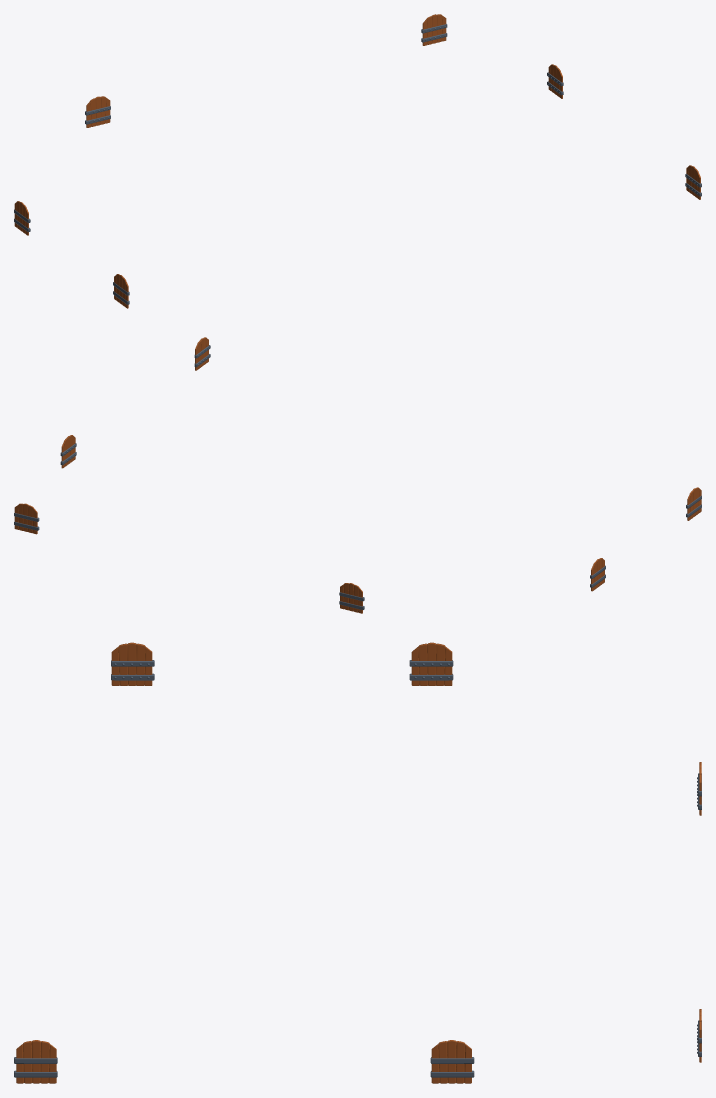
Rendered from Doors.fbx.
3 renders of one model, top to bottom at view 1: azimuth 30°, elevation 25°; view 2: azimuth 150°, elevation 25°; view 3: azimuth 270°, elevation 25°, orthographic. The views are drawn at different scales.
Parts seen in each view (by area): view 1: Door2, Door; view 2: Door2, Door; view 3: Door4, Door1, Door3, Door5.
Boxes of the visible parts, x1,y1,x2,y2 form: Door2: (421, 14, 447, 45); Door: (85, 96, 110, 127); Door2: (14, 503, 39, 534); Door: (339, 583, 364, 613); Door4: (430, 1040, 474, 1083); Door1: (409, 642, 453, 685); Door3: (111, 642, 154, 685); Door5: (14, 1040, 57, 1083).
Bounding box in the file's own units: 3.16 × 0.1583 × 2.3.
